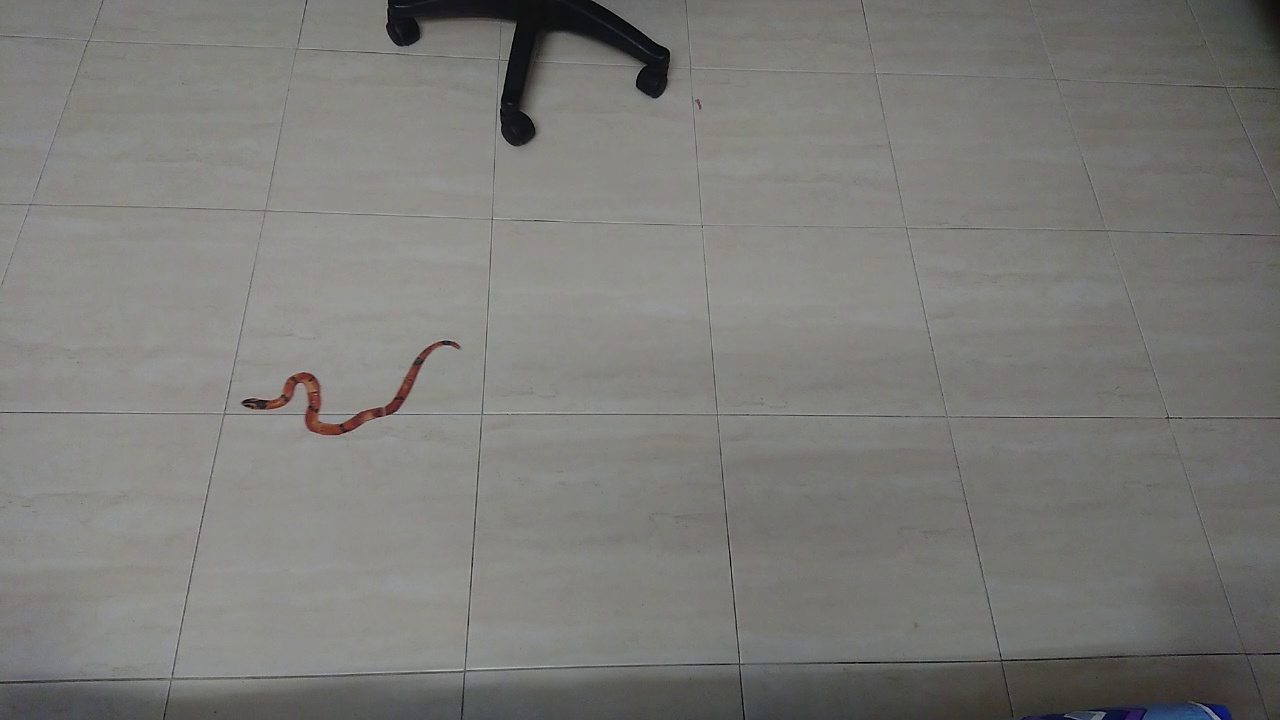snake: (212, 324, 492, 455)
